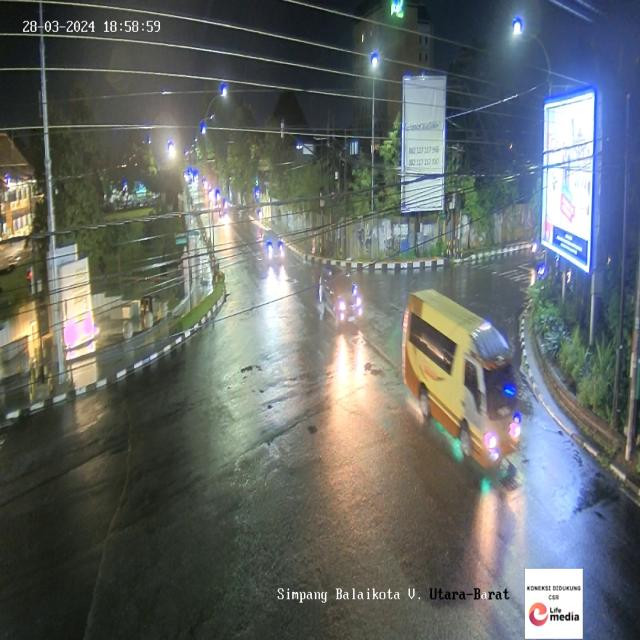bus: (400, 284, 522, 479)
car: (320, 264, 361, 333), (260, 231, 282, 265)
